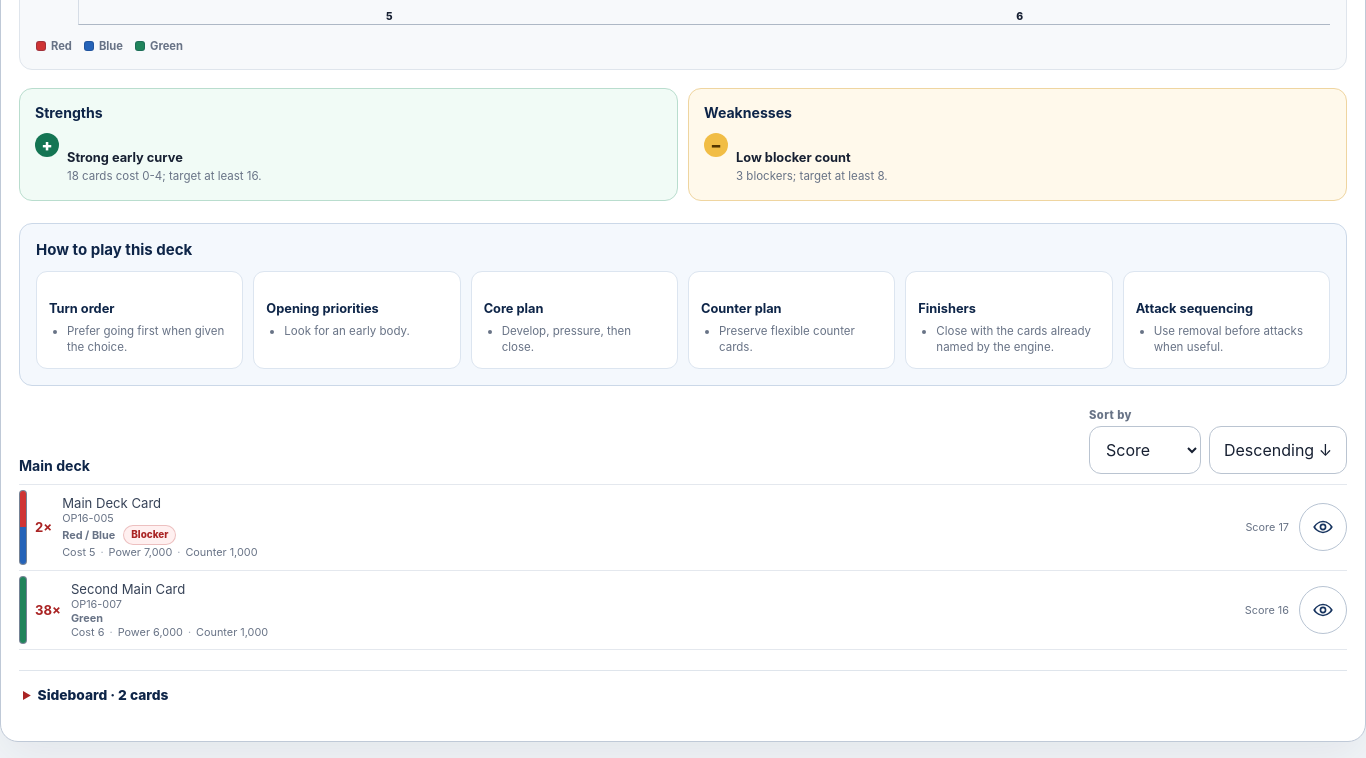
Test: DeckResult › sorts Main deck by each field, resets natural direction, and preserves focus
(page scrolled)
Step 1. Select "Cost" in the dropdown labelled "Sort by" → x=1145, y=450, box left=1089, top=426, right=1201, bottom=474
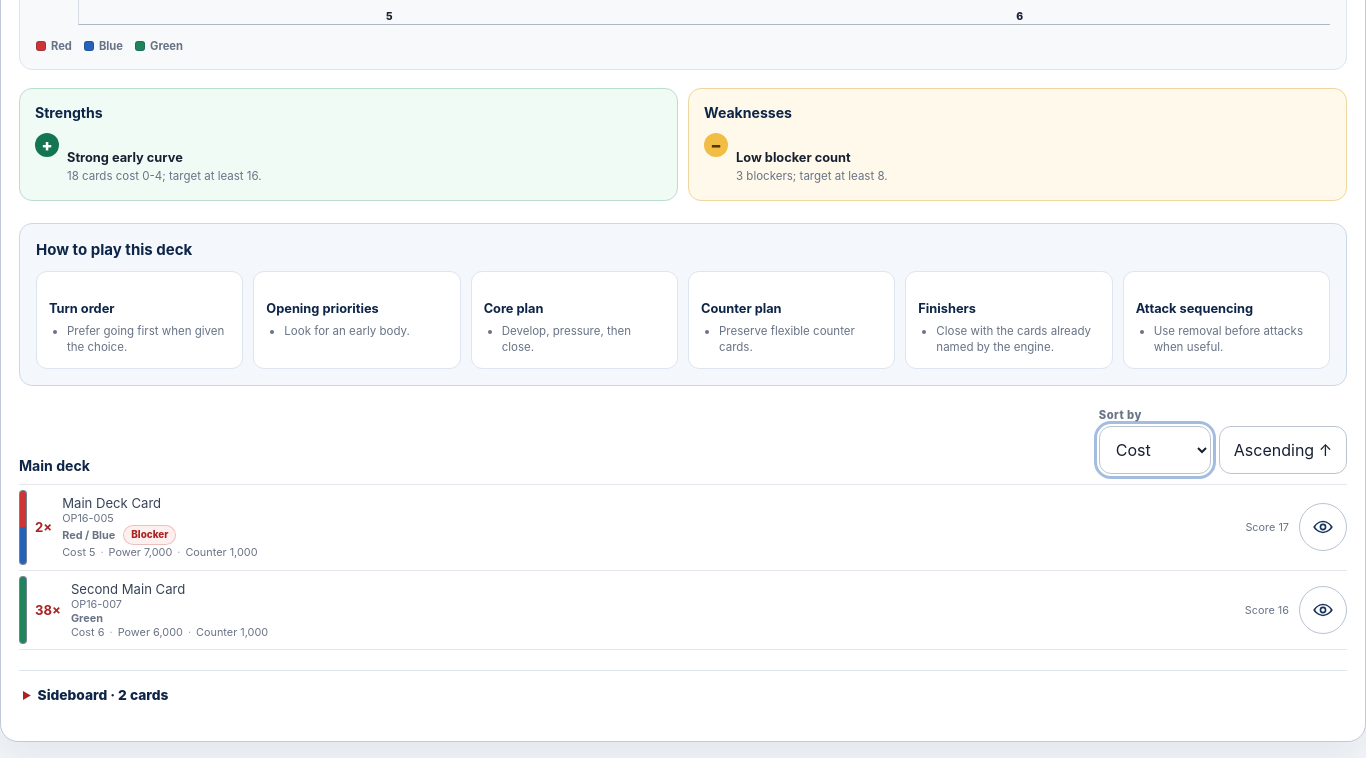
expect the button with aria-label "Change sort direction to descending" shows "Ascending": met
Step 2. Click the button with aria-label "Change sort direction to descending" → x=1283, y=450, box left=1219, top=426, right=1347, bottom=474
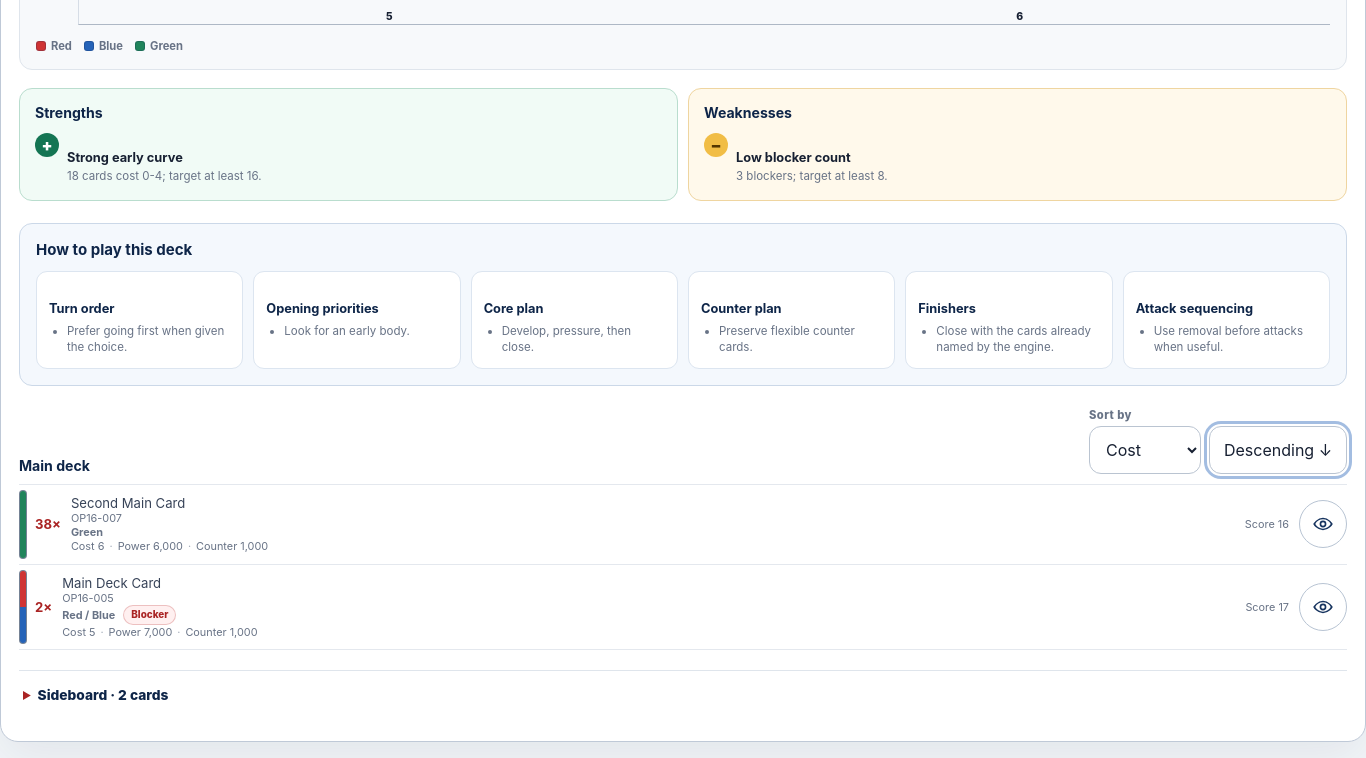
expect the button named "Change sort direction to descending" shows "Descending": met, box left=1209, top=426, right=1347, bottom=474
Step 3. Select "Power" in the dropdown labelled "Sort by" → x=1145, y=450, box left=1089, top=426, right=1201, bottom=474
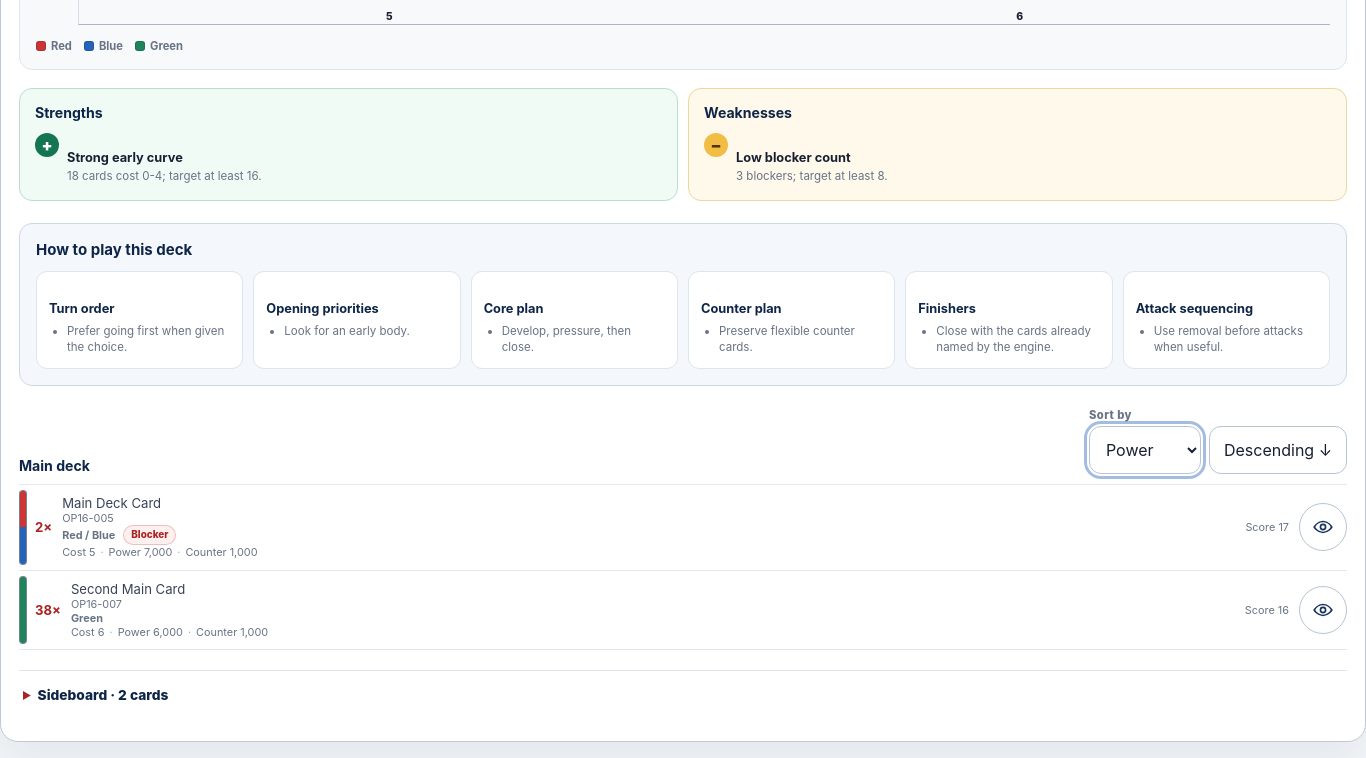
expect the button named "Change sort direction to descending" shows "Descending": met, box left=1209, top=426, right=1347, bottom=474
Step 4. Select "Name" in the dropdown labelled "Sort by" → x=1145, y=450, box left=1089, top=426, right=1201, bottom=474
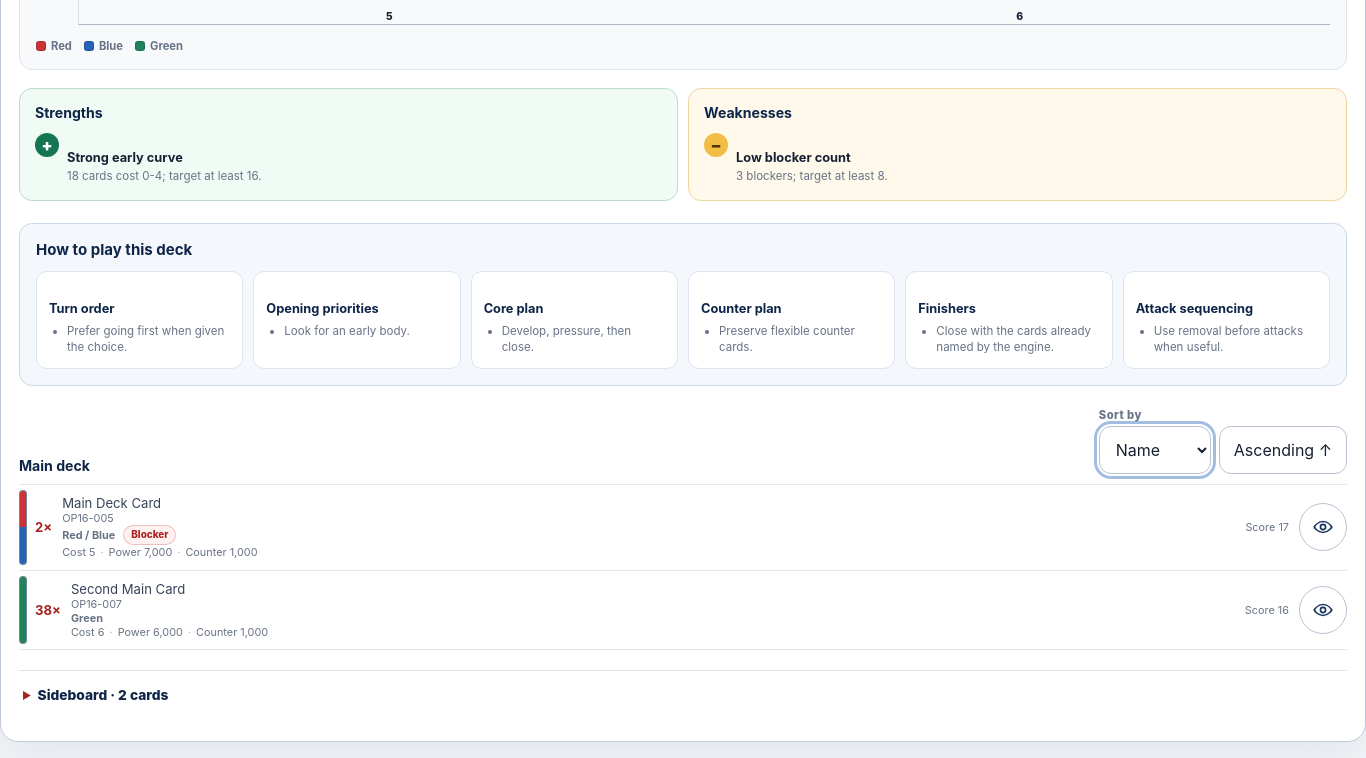
expect the button with aria-label "Change sort direction to descending" shows "Ascending": met, box left=1219, top=426, right=1347, bottom=474
